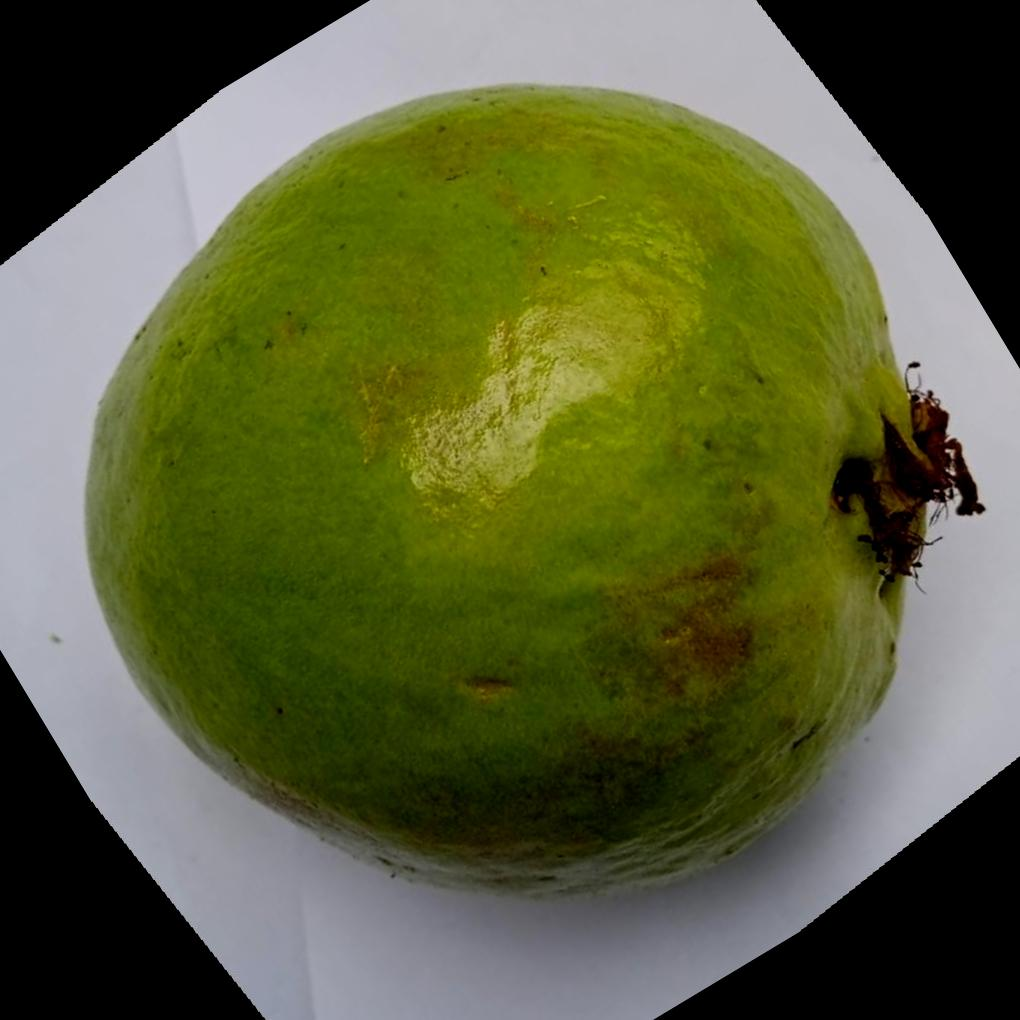FreshGuava: (76, 81, 977, 902)
